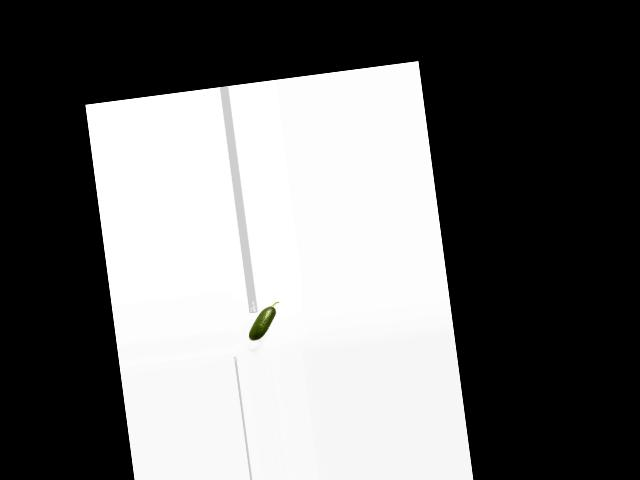cucumber: (244, 300, 283, 340)
